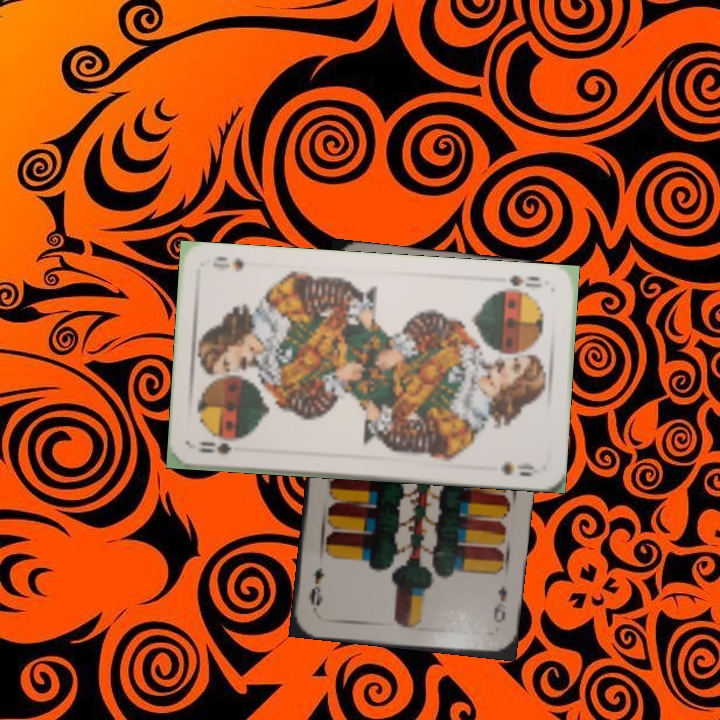E9: (489, 583, 510, 626)
SO: (505, 270, 545, 291), (193, 437, 234, 456)
